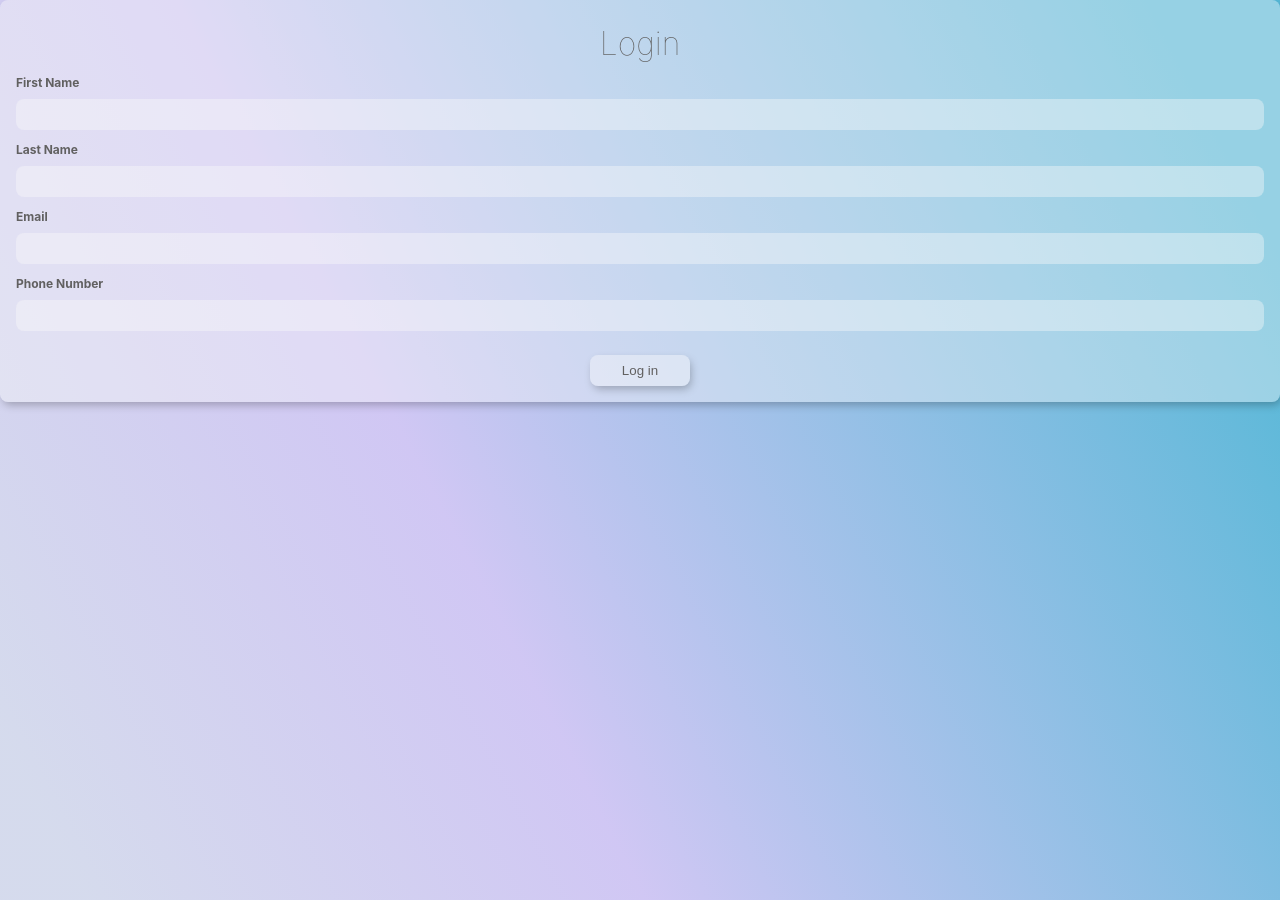
Test: Login › should render an error if the first name is missing
Step 1. Type "Doe" into the field with test id "last-name-input" → (640, 182), box [16,166,1264,197]
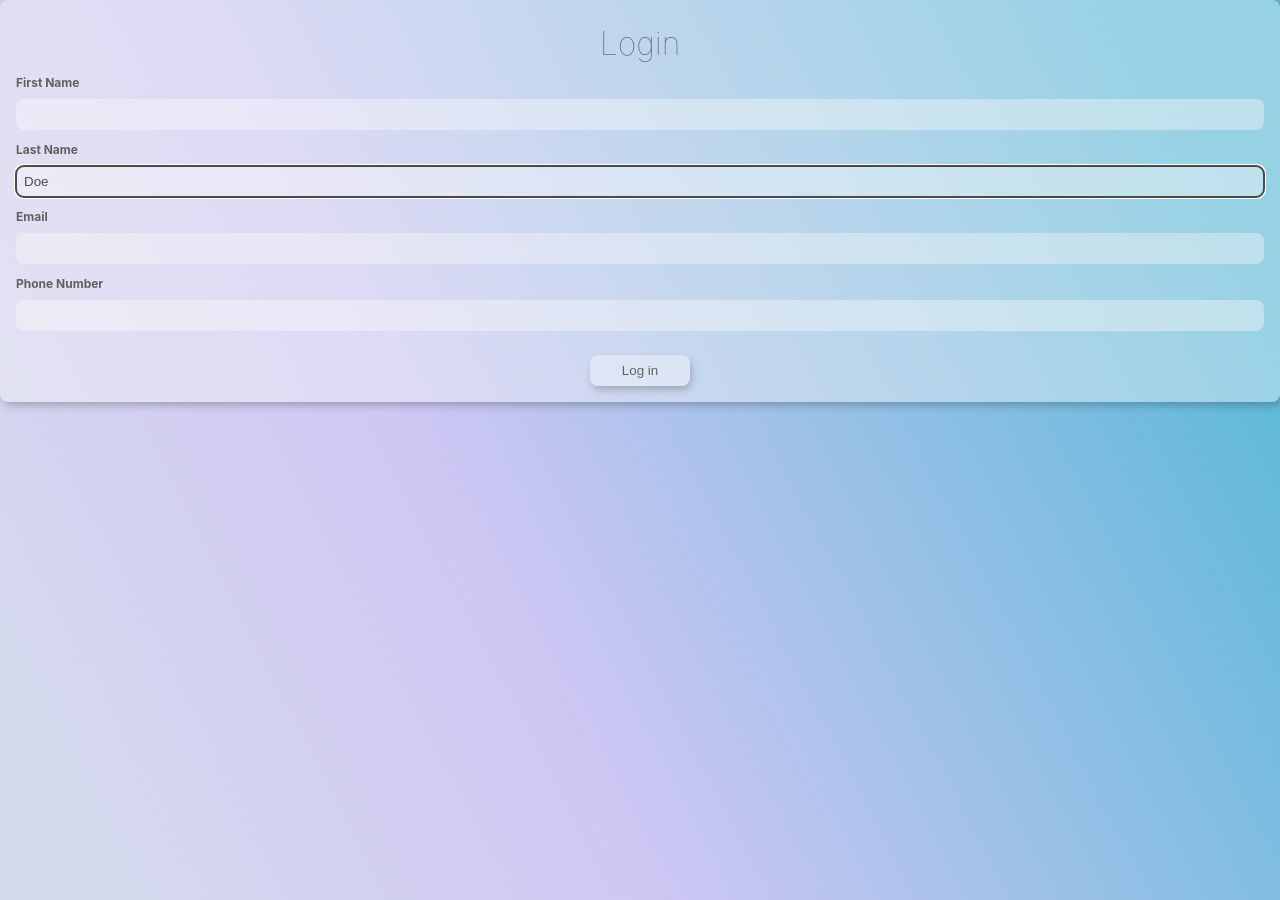
Step 2. Type "john@doe.com" into the field with test id "email-input" → (640, 248), box [16,233,1264,264]
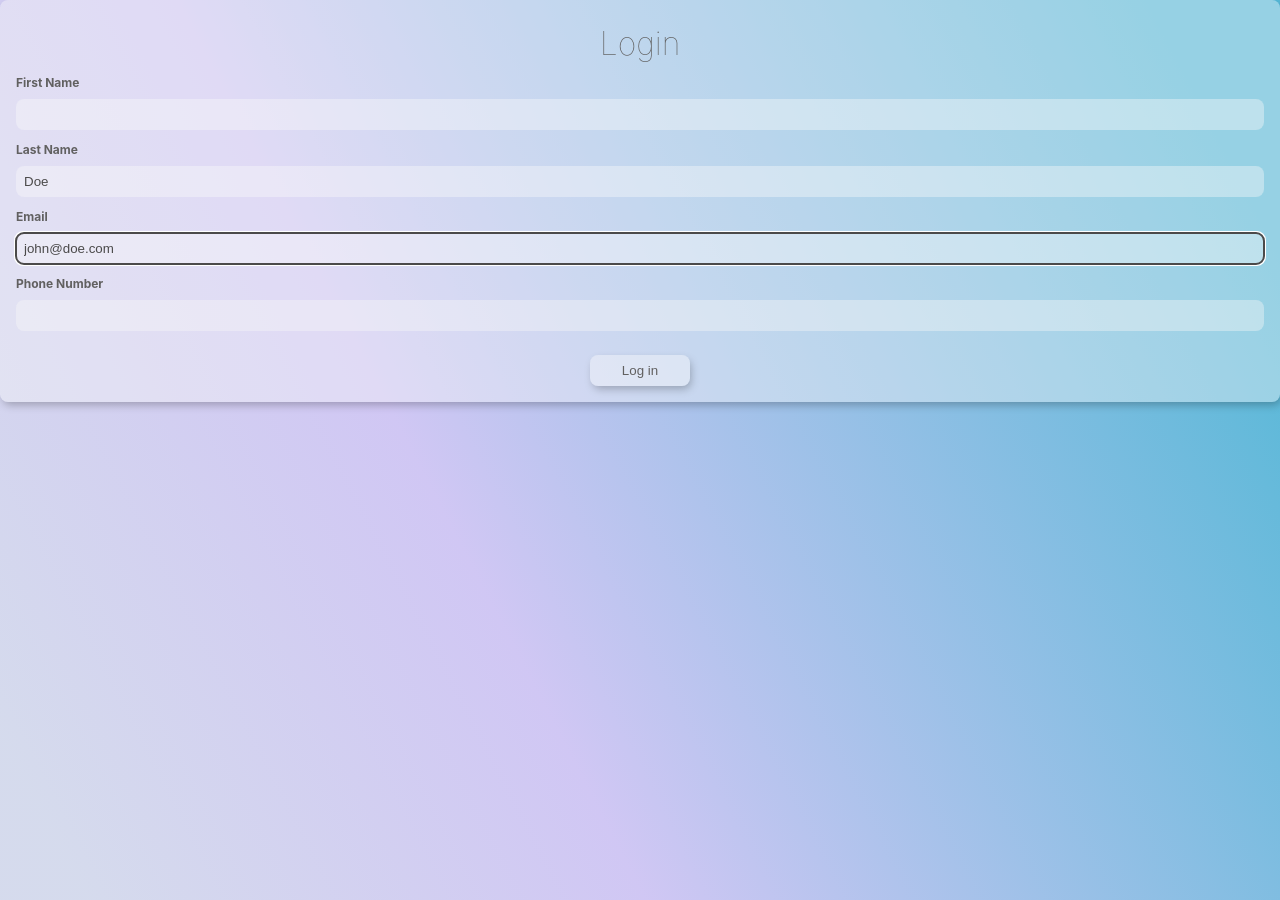
Step 3. Type "1234567890" into the field with test id "phone-number-input" → (640, 316), box [16,300,1264,331]
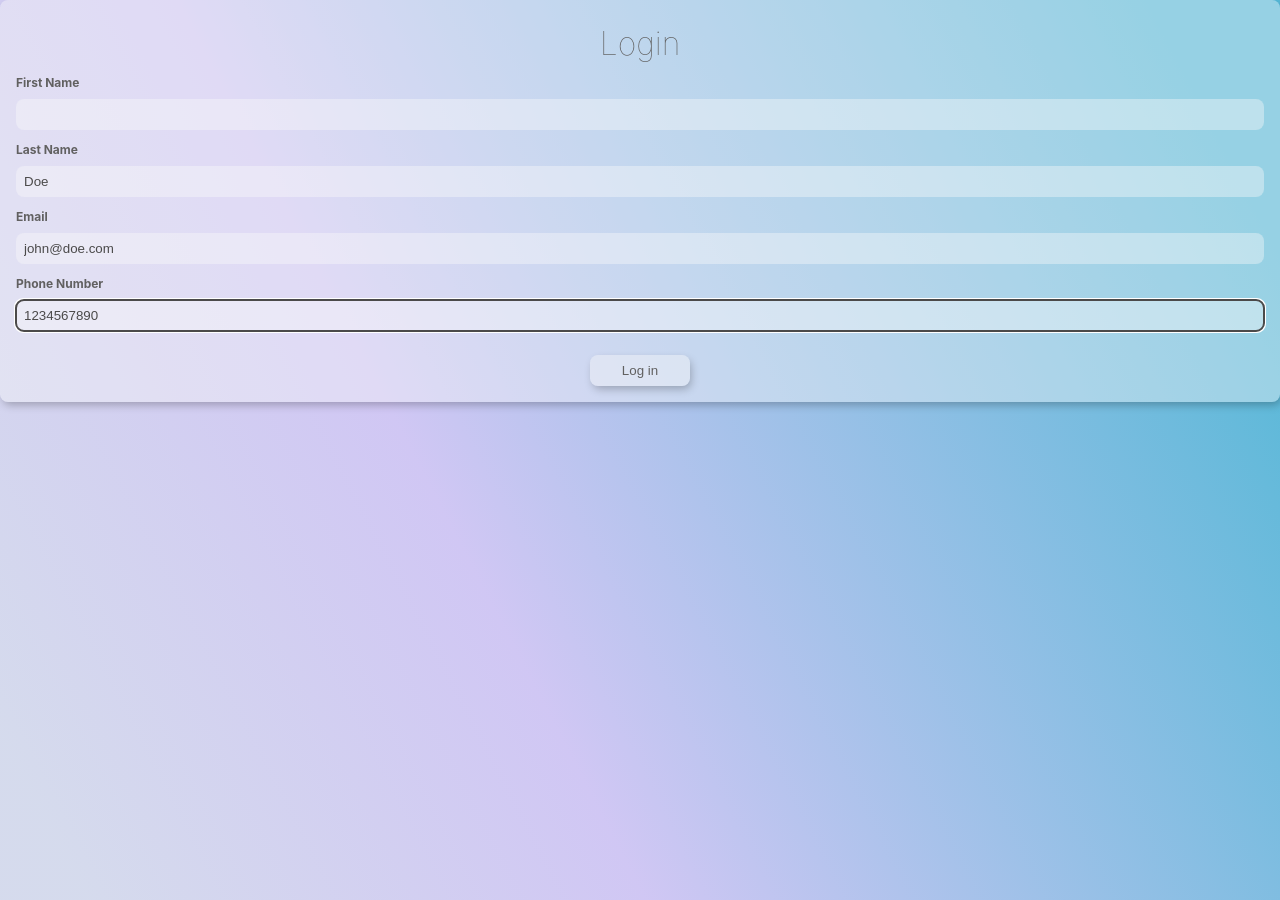
Step 4. Click the button with test id "submit-button" → (640, 370), box [590,355,690,386]
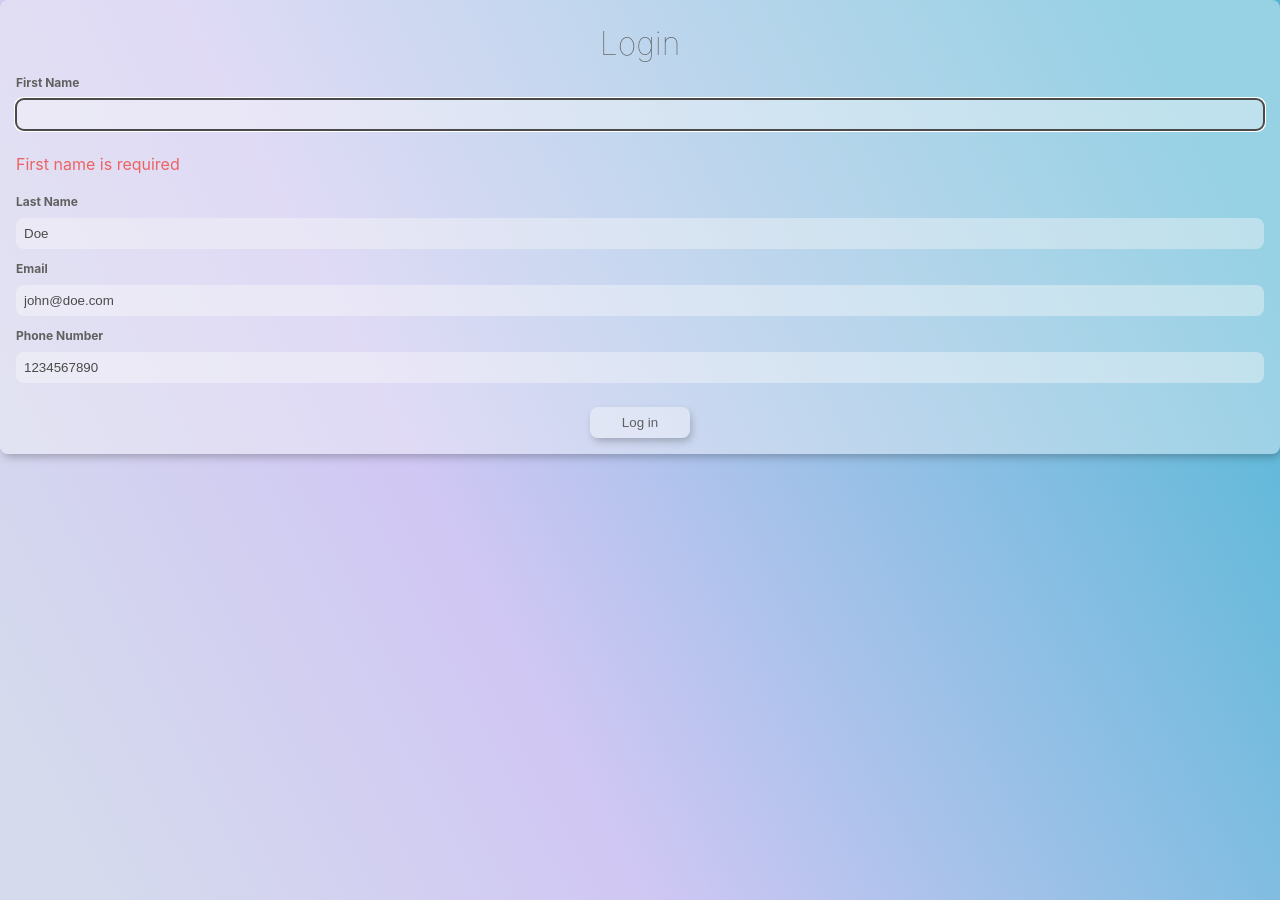
Now the text "First name is required" is shown, box [16,154,180,174]
